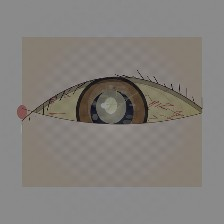corneal_ulcer: (84, 85, 139, 129)
